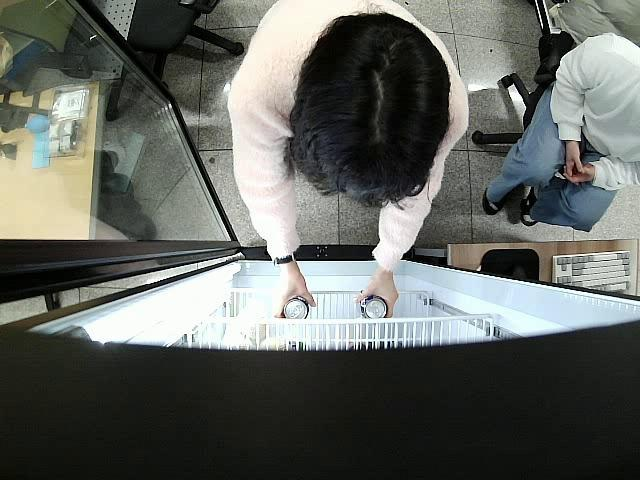14_welchsGrape: (360, 296, 388, 320), (283, 296, 309, 320)
